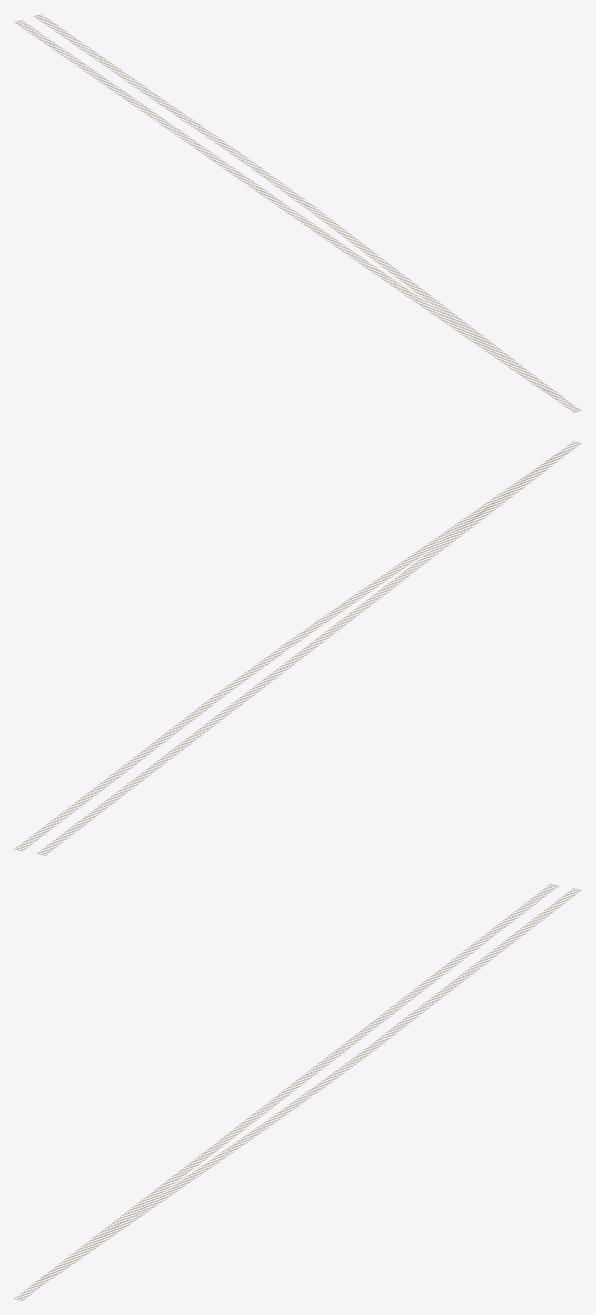
The model's file is c_1629_17835_rail_sleeper.glb.
The picture shows the model from 3 angles, top to bottom: view 1: azimuth 30°, elevation 25°; view 2: azimuth 150°, elevation 25°; view 3: azimuth 330°, elevation 25°; orthographic projection. The views are drawn at different scales.
Visible parts, largest first — view 1: geometry_0; view 2: geometry_0; view 3: geometry_0.
Part boxes in pixels (left/top/right/bottom): geometry_0: left=14, top=14, right=581, bottom=412; geometry_0: left=14, top=441, right=581, bottom=855; geometry_0: left=14, top=884, right=581, bottom=1300.
Size of the model in its own units: 10.29 by 0.3702 by 256.
